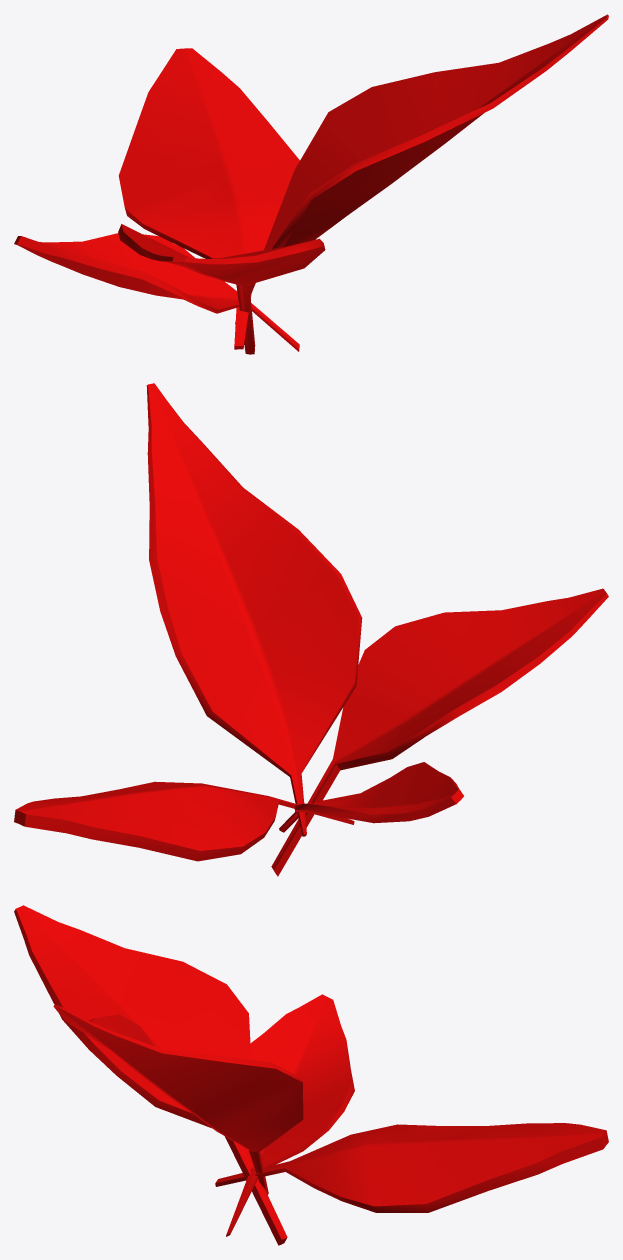
File: Jungle_Bushes_1.fbx
3 renders of one model, top to bottom at view 1: azimuth 30°, elevation 25°; view 2: azimuth 150°, elevation 25°; view 3: azimuth 270°, elevation 25°, orthographic. The views are drawn at different scales.
Parts seen in each view (by area): view 1: MESH_Jungle_Bushes_1; view 2: MESH_Jungle_Bushes_1; view 3: MESH_Jungle_Bushes_1.
Part boxes in pixels (box(x1,y1,x2,y2)): MESH_Jungle_Bushes_1: box(14, 14, 608, 354); MESH_Jungle_Bushes_1: box(14, 383, 608, 876); MESH_Jungle_Bushes_1: box(14, 905, 608, 1245).
Bounding box in the file's own units: 10.39 × 7.84 × 11.89.
